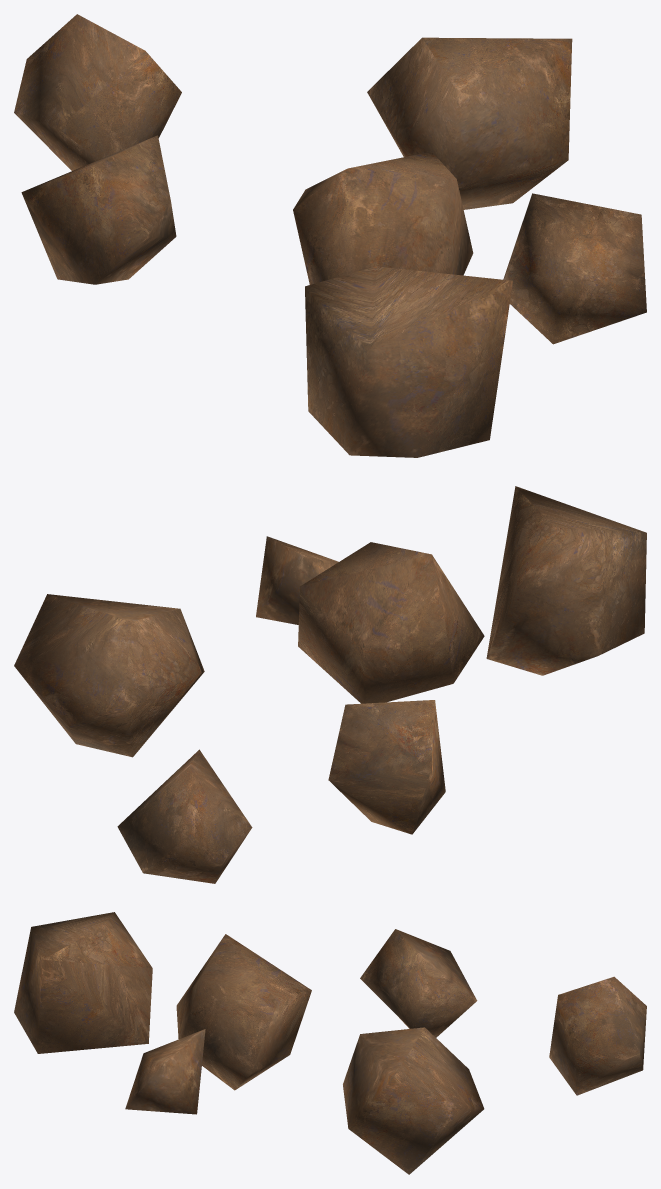
Rendered from Stones_Tiny2_L1.fbx.
3 views of the same model, one above another, from view 1: azimuth 30°, elevation 25°; view 2: azimuth 150°, elevation 25°; view 3: azimuth 270°, elevation 25° (orthographic). The views are drawn at different scales.
Parts seen in each view (by area): view 1: polySurface224; view 2: polySurface224; view 3: polySurface224.
Boxes of the visible parts, x1,y1,x2,y2 form: polySurface224: [14, 14, 646, 457]; polySurface224: [14, 486, 646, 883]; polySurface224: [14, 912, 646, 1174].
Size of the model in its own units: 18.64 by 7.53 by 29.3.
